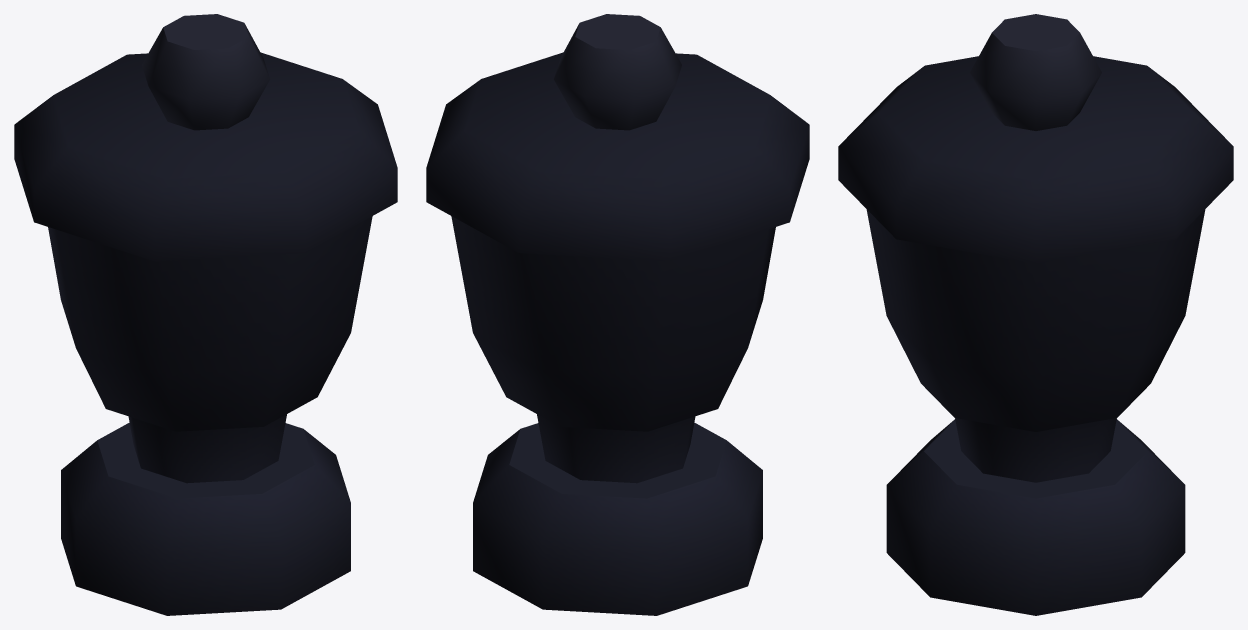
Rendered from chaudron.glb.
The picture shows the model from 3 angles, left to right: view 1: azimuth 30°, elevation 25°; view 2: azimuth 150°, elevation 25°; view 3: azimuth 270°, elevation 25°; orthographic projection.
Parts seen in each view (by area): view 1: urn-round; view 2: urn-round; view 3: urn-round.
Part boxes in pixels (x1=…): urn-round: x1=14, y1=14, x2=397, y2=615; urn-round: x1=426, y1=14, x2=809, y2=615; urn-round: x1=838, y1=14, x2=1233, y2=615.
Size of the model in its own units: 0.8263 by 1.2 by 0.8263.
1 material, 1 textured.
